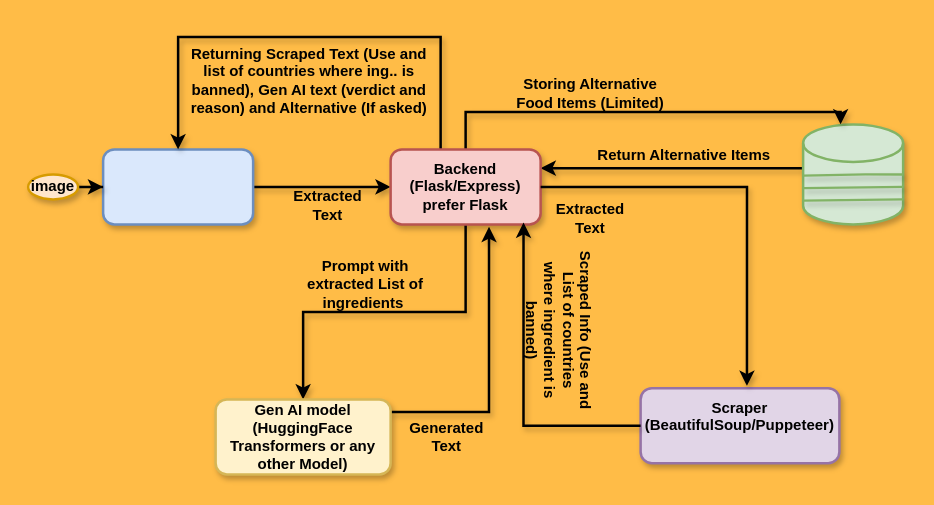
Image size: 934x505. Some labels were removed from this diagram. The centre of each missing label's shape, as x and y in pixels:
"Database (MongoDB)" goes at point (853, 176).
"Front End (React)" goes at point (178, 188).
